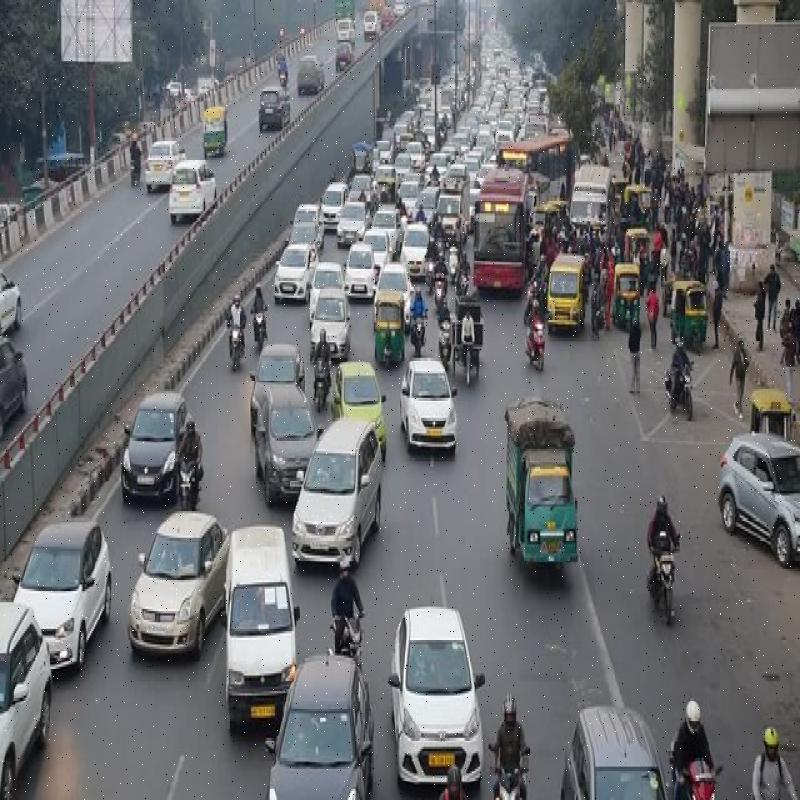auto: (666, 278, 710, 347), (611, 259, 642, 338)
bike: (642, 491, 686, 620), (318, 554, 372, 659), (660, 320, 698, 422), (678, 749, 732, 800), (521, 314, 554, 374), (491, 753, 531, 800), (225, 322, 249, 372), (437, 307, 454, 370), (411, 312, 430, 360), (252, 302, 267, 348)
car: (262, 641, 385, 800), (388, 590, 487, 774), (132, 493, 227, 672), (214, 514, 296, 720), (18, 504, 103, 674), (298, 408, 381, 560), (724, 422, 800, 576), (114, 382, 185, 506), (248, 382, 324, 496), (404, 352, 456, 470), (306, 286, 359, 348), (274, 235, 314, 307), (348, 241, 374, 307)
